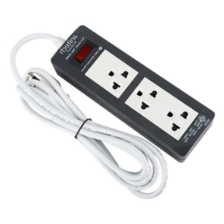three_eye_plug: (47, 21, 217, 165)
